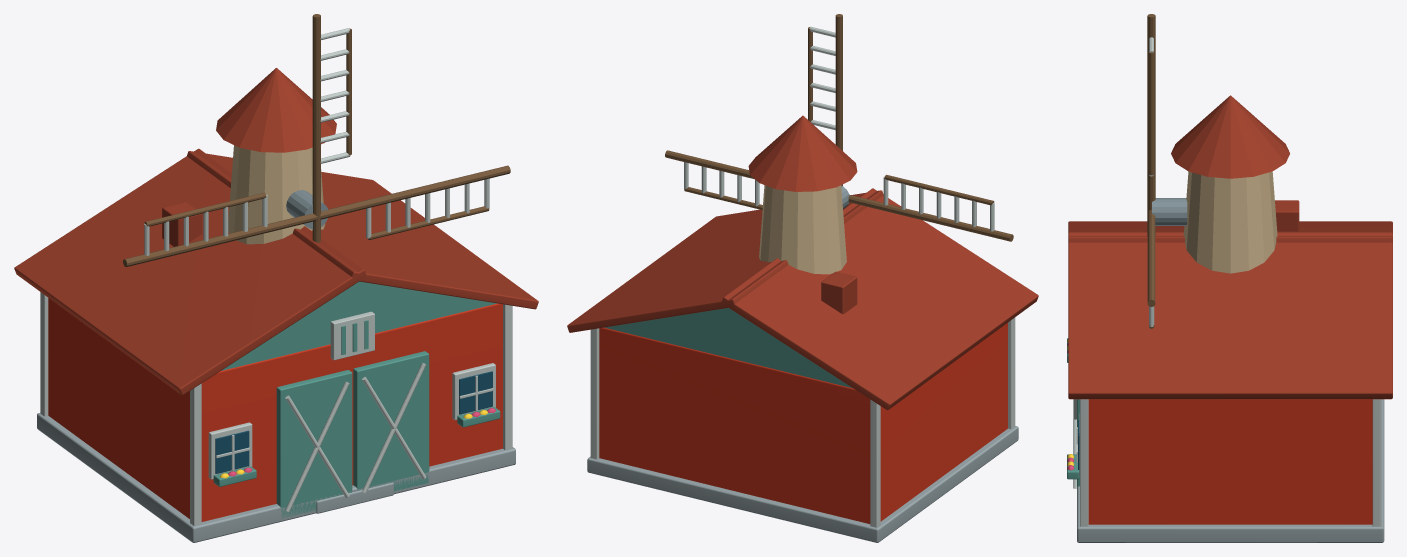
Rendered from adventure-kit.glb.
The picture shows the model from 3 angles, left to right: view 1: azimuth 30°, elevation 25°; view 2: azimuth 150°, elevation 25°; view 3: azimuth 270°, elevation 25°; orthographic projection. The views are drawn at different scales.
Parts seen in each view (by area): view 1: Barn_Surface, Windmill_Surface, WindmillSails_Surface, Cottage_Surface; view 2: Barn_Surface, Windmill_Surface, WindmillSails_Surface, Cottage_Surface; view 3: Barn_Surface, Windmill_Surface, WindmillSails_Surface, Cottage_Surface.
Part boxes in pixels (x1,y1,x2,y2): Barn_Surface: (14,148,538,542); Windmill_Surface: (216,68,336,244); WindmillSails_Surface: (123,14,510,266); Cottage_Surface: (162,202,393,513); Barn_Surface: (567,188,1038,542); Windmill_Surface: (748,115,857,274); WindmillSails_Surface: (665,14,1013,241); Cottage_Surface: (821,271,857,314); Barn_Surface: (1067,221,1392,542); Windmill_Surface: (1152,95,1289,273); WindmillSails_Surface: (1147,14,1155,328); Cottage_Surface: (1275,200,1299,231).
Size of the model in its own units: 7.4 by 8.5 by 5.57.
